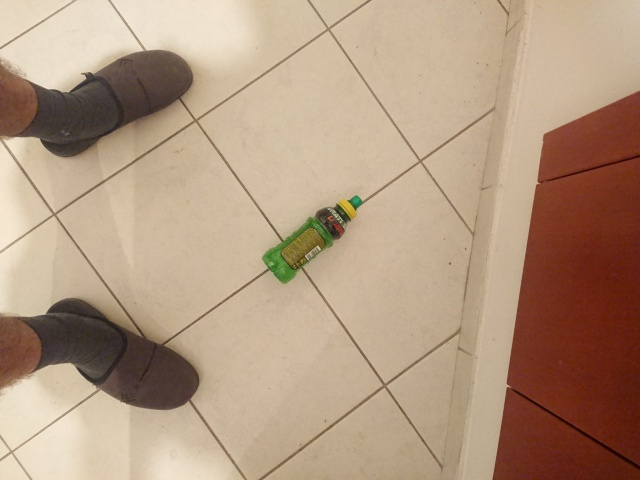Vindi Iso Sport Lemon-Grapefruit 500mL: (260, 194, 364, 286)
